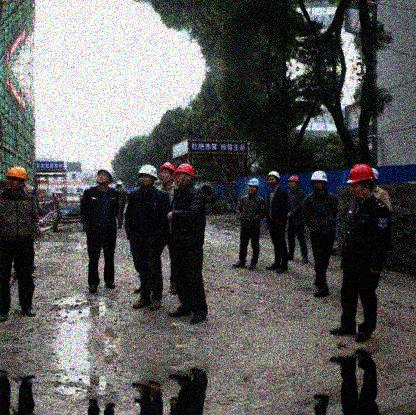helmet: (346, 164, 373, 203), (136, 163, 158, 188), (175, 162, 196, 188), (6, 166, 27, 190), (96, 165, 115, 190), (310, 170, 328, 195), (159, 161, 175, 185), (267, 170, 281, 189), (286, 175, 298, 193), (371, 165, 379, 189), (247, 178, 258, 195), (114, 179, 122, 188)
